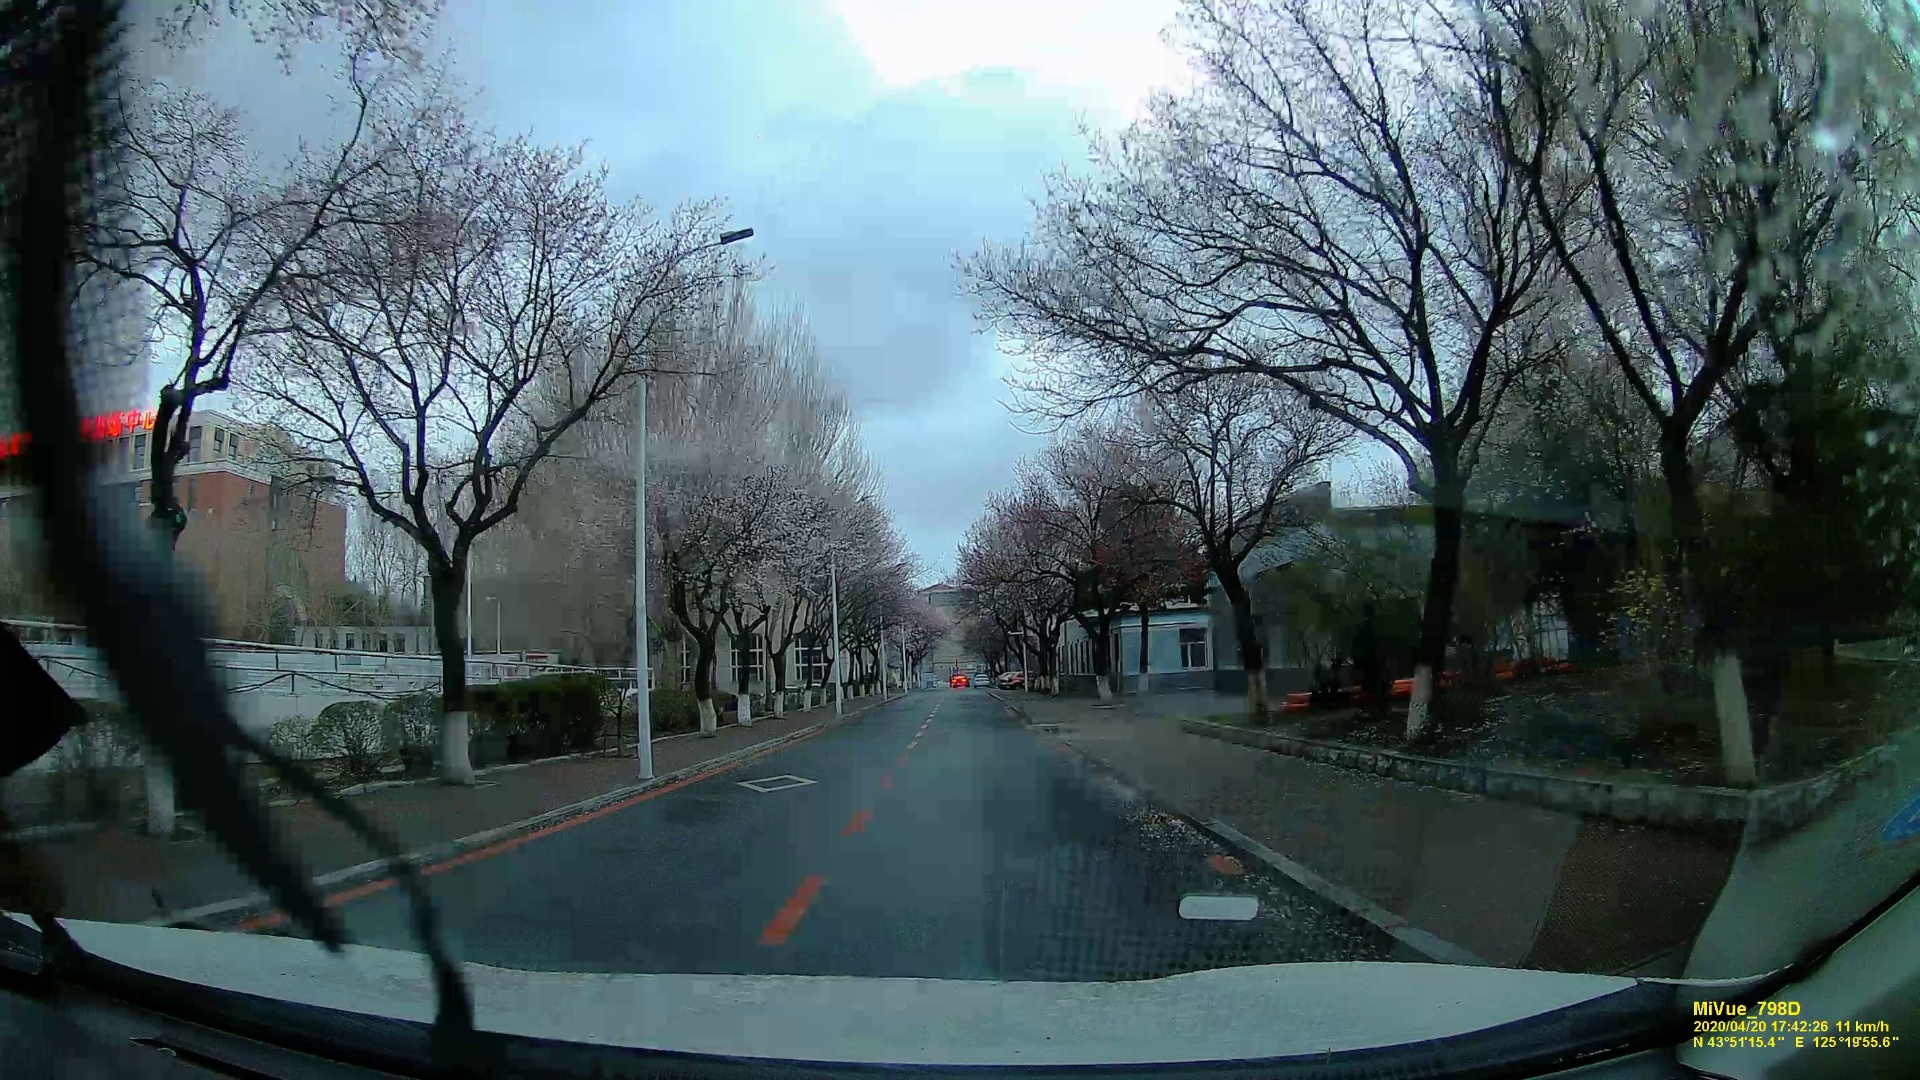vehicle: (1001, 673, 1025, 688), (949, 674, 967, 688), (972, 674, 989, 687)
